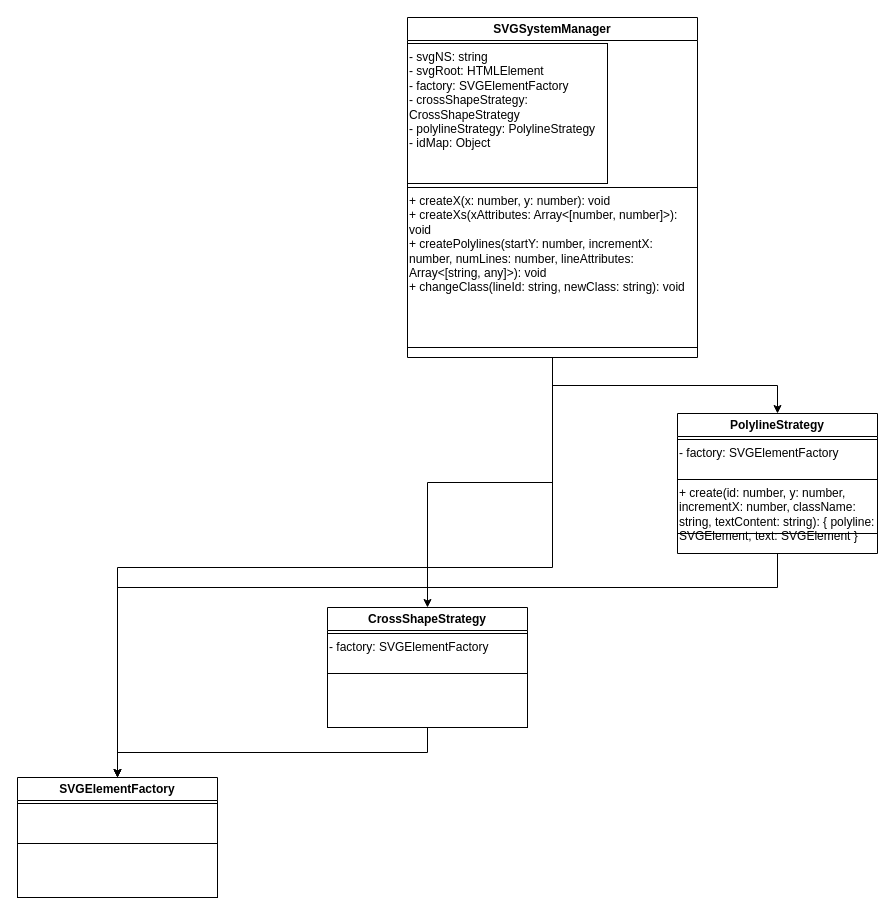
Image size: 895x915. Some labels were removed from this diagram. The shapes that lost their labels are listed below. From the top down, each one's centre as x and y in pixels, then its label:
the point at 427,700: + create(x: number, y: number): SVGElement
the point at 117,823: - svgNS: string
the point at 117,870: + createElement(type: string, attributes: Object): SVGElement
